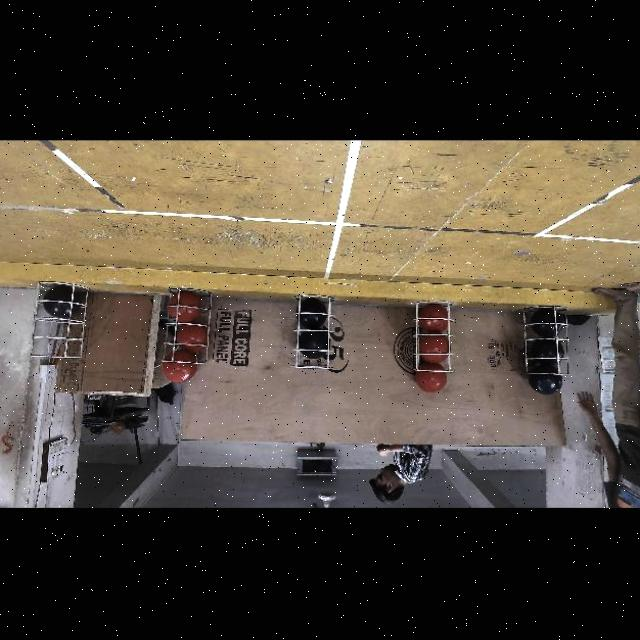P: (44, 286, 78, 318), (528, 365, 563, 394), (532, 308, 564, 336), (296, 299, 326, 327), (299, 328, 329, 356), (532, 339, 562, 363)
R: (162, 349, 197, 383), (168, 291, 198, 323), (415, 363, 447, 393), (176, 324, 208, 351), (417, 336, 449, 362), (417, 306, 448, 332)
S: (27, 286, 93, 364), (163, 290, 211, 370), (522, 310, 570, 378), (412, 306, 454, 380), (294, 300, 336, 374)
